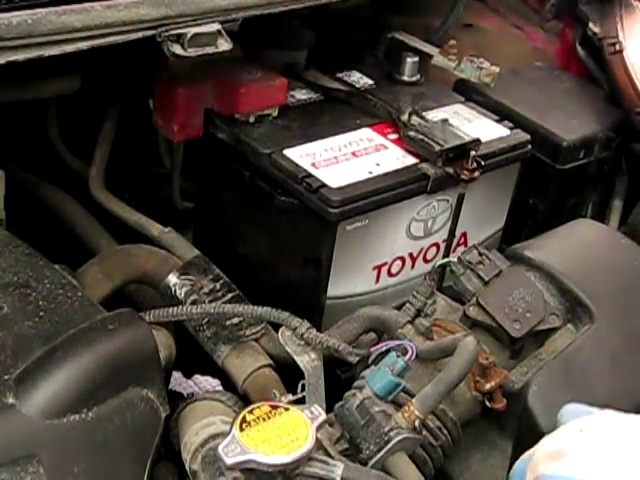battery: (185, 40, 523, 191)
neg_disconnected: (377, 42, 443, 93)
pos_connected: (169, 53, 296, 143)
